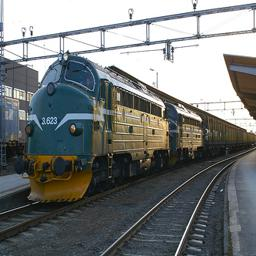train: (128, 62, 256, 256)
